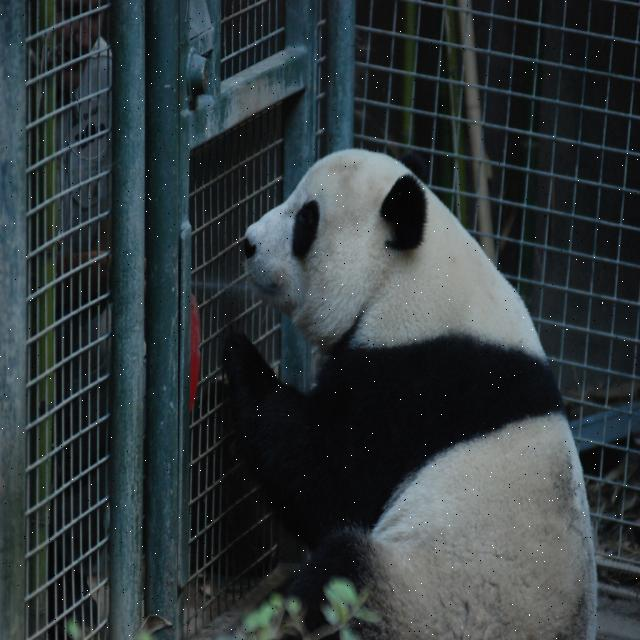panda: (210, 150, 600, 640)
